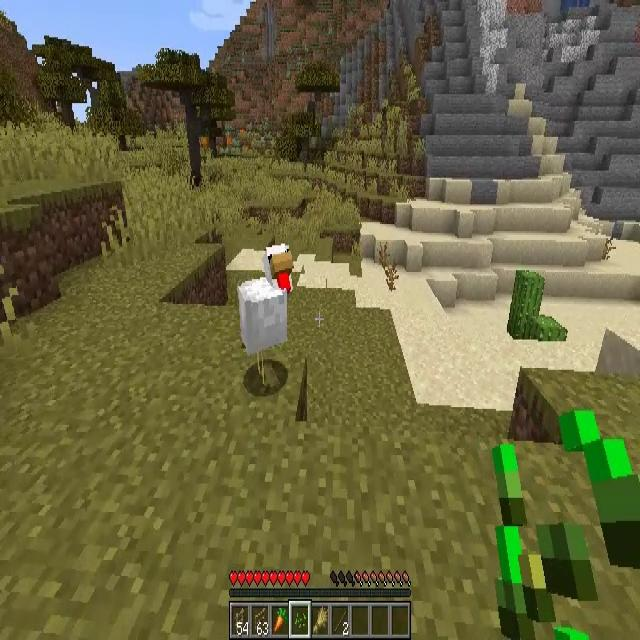duck: (239, 246, 297, 388)
